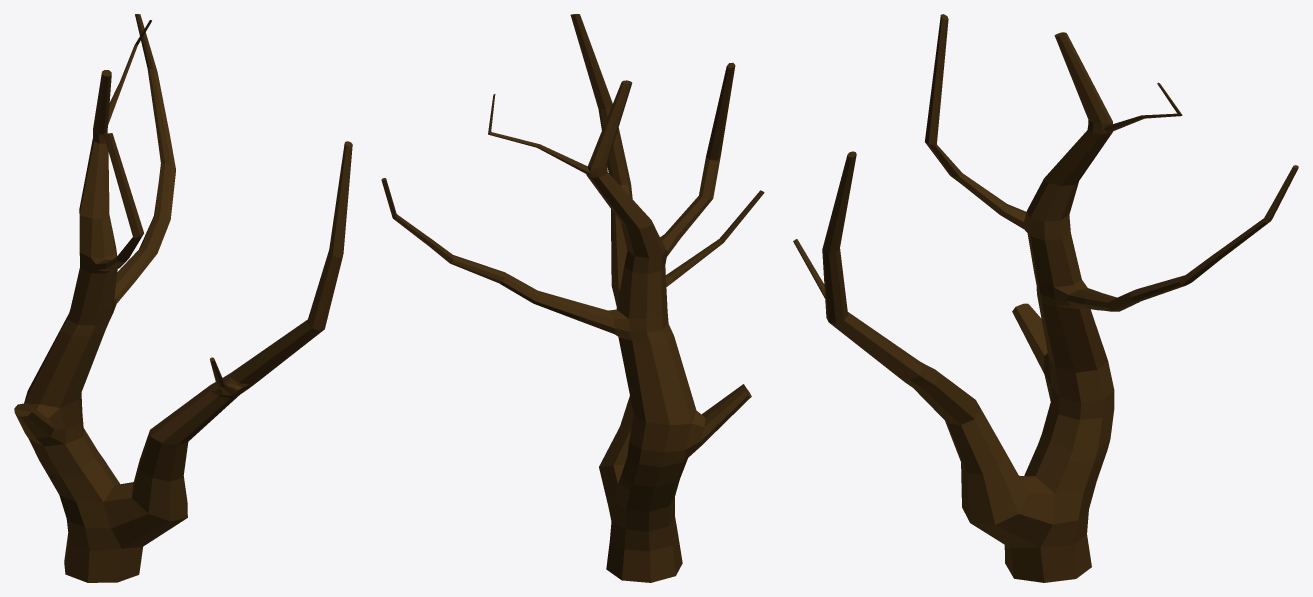
Rendered from Cementery_Tree1.fbx.
The picture shows the model from 3 angles, left to right: view 1: azimuth 30°, elevation 25°; view 2: azimuth 150°, elevation 25°; view 3: azimuth 270°, elevation 25°; orthographic projection. The views are drawn at different scales.
Parts seen in each view (by area): view 1: DeadTree3; view 2: DeadTree3; view 3: DeadTree3.
Part boxes in pixels (left/top/right/bottom): DeadTree3: left=14, top=14, right=352, bottom=582; DeadTree3: left=381, top=14, right=764, bottom=582; DeadTree3: left=793, top=14, right=1298, bottom=582.
Bounding box in the file's own units: 147 × 266 × 226.
